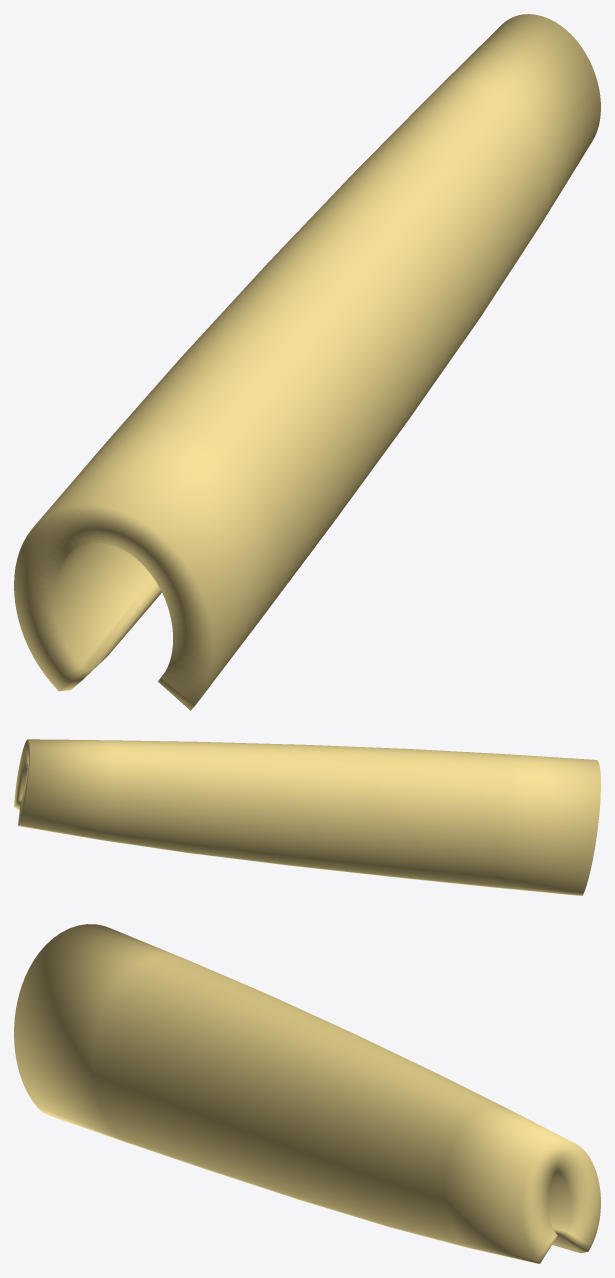
3 renders of one model, top to bottom at view 1: azimuth 30°, elevation 25°; view 2: azimuth 150°, elevation 25°; view 3: azimuth 270°, elevation 25°, orthographic. The views are drawn at different scales.
Visible parts, largest first — view 1: ZA_817af9f84e05ada2; view 2: ZA_817af9f84e05ada2; view 3: ZA_817af9f84e05ada2.
Part boxes in pixels (x1,y1,x2,y2): ZA_817af9f84e05ada2: (14, 14, 600, 710); ZA_817af9f84e05ada2: (14, 739, 600, 895); ZA_817af9f84e05ada2: (14, 924, 600, 1263).
Size of the model in its own units: 0.0215 by 0.00746 by 0.0169.
